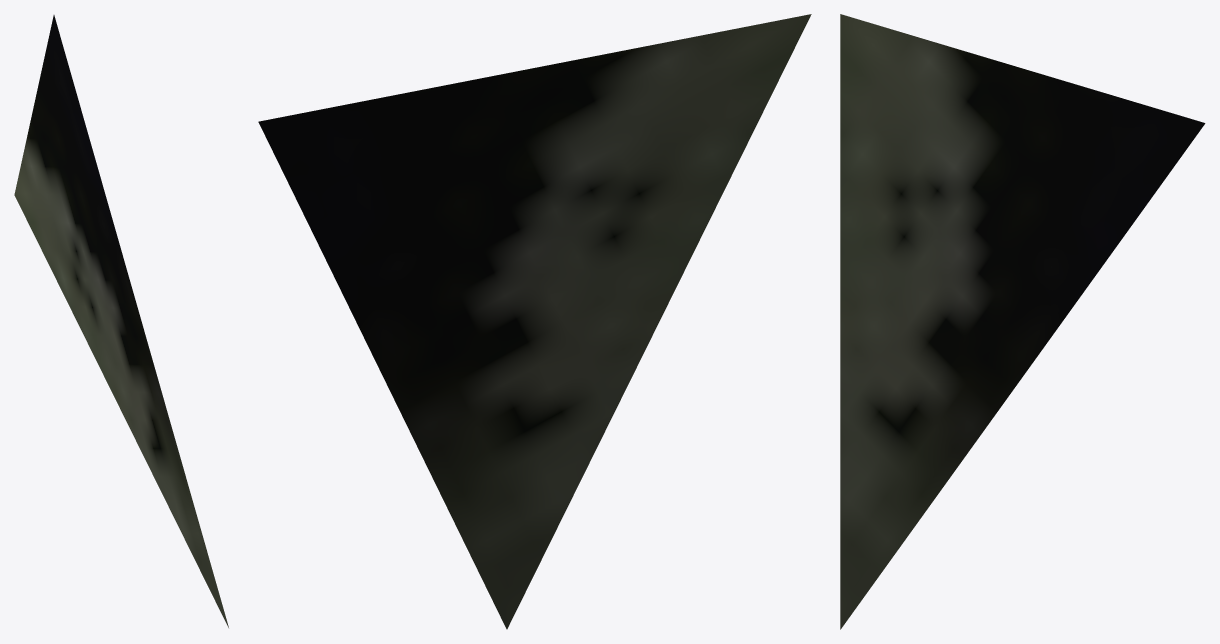
3 renders of one model, left to right at view 1: azimuth 30°, elevation 25°; view 2: azimuth 150°, elevation 25°; view 3: azimuth 270°, elevation 25°, orthographic. The views are drawn at different scales.
Size of the model in its own units: 0.1917 by 0.4149 by 0.2709.
Materials: 1 (1 with a texture image).
